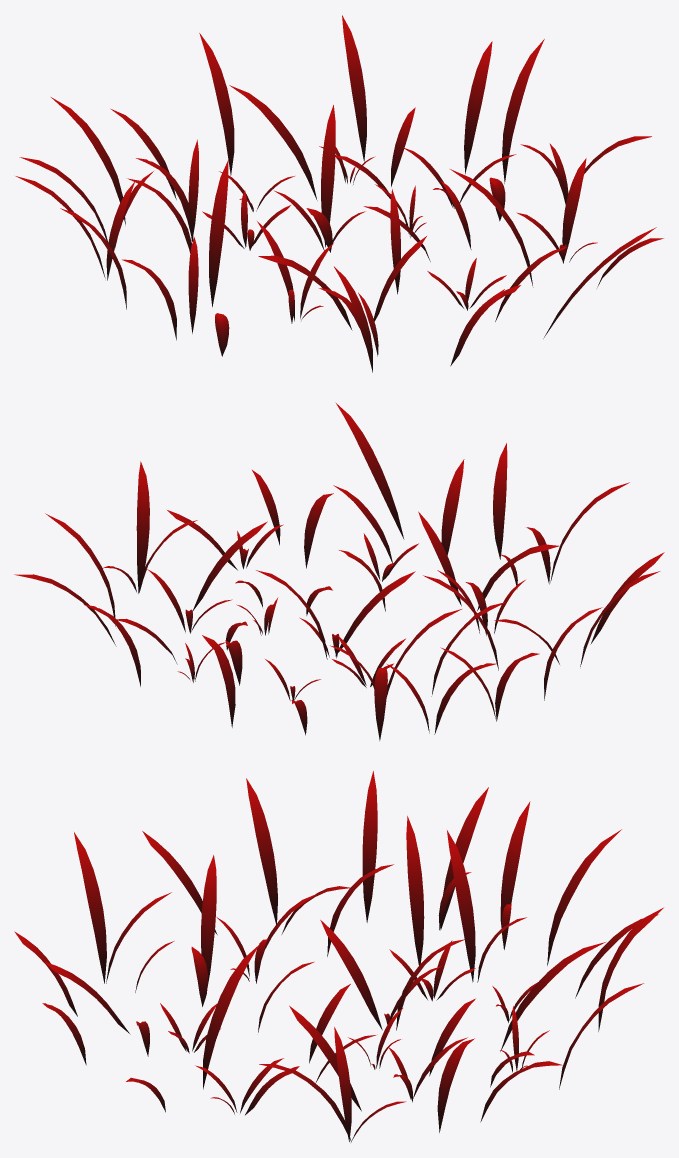
Rendered from grass.fbx.
3 views of the same model, one above another, from view 1: azimuth 30°, elevation 25°; view 2: azimuth 150°, elevation 25°; view 3: azimuth 270°, elevation 25° (orthographic). The views are drawn at different scales.
Parts seen in each view (by area): view 1: Grass; view 2: Grass; view 3: Grass.
Boxes of the visible parts, x1,y1,x2,y2 form: Grass: [15, 15, 663, 372]; Grass: [14, 402, 664, 740]; Grass: [14, 771, 663, 1142].
Bounding box in the file's own units: 7.38 × 1.59 × 7.42.
